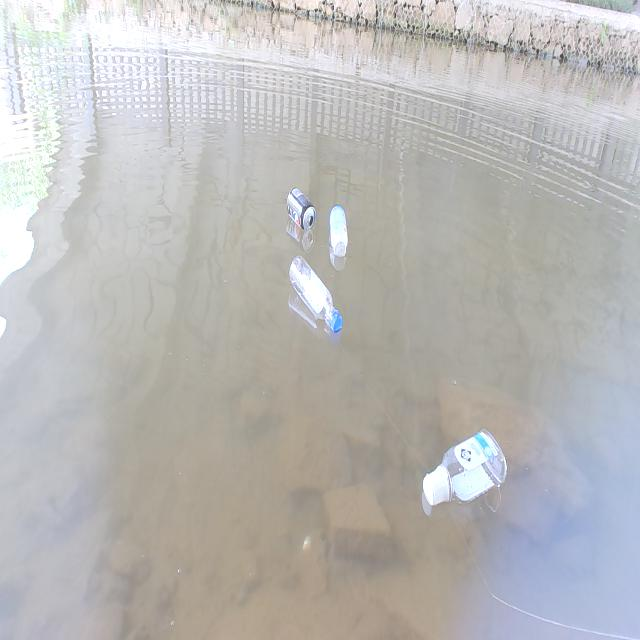bottle: (401, 398, 528, 530), (285, 244, 349, 341), (326, 202, 356, 254)
